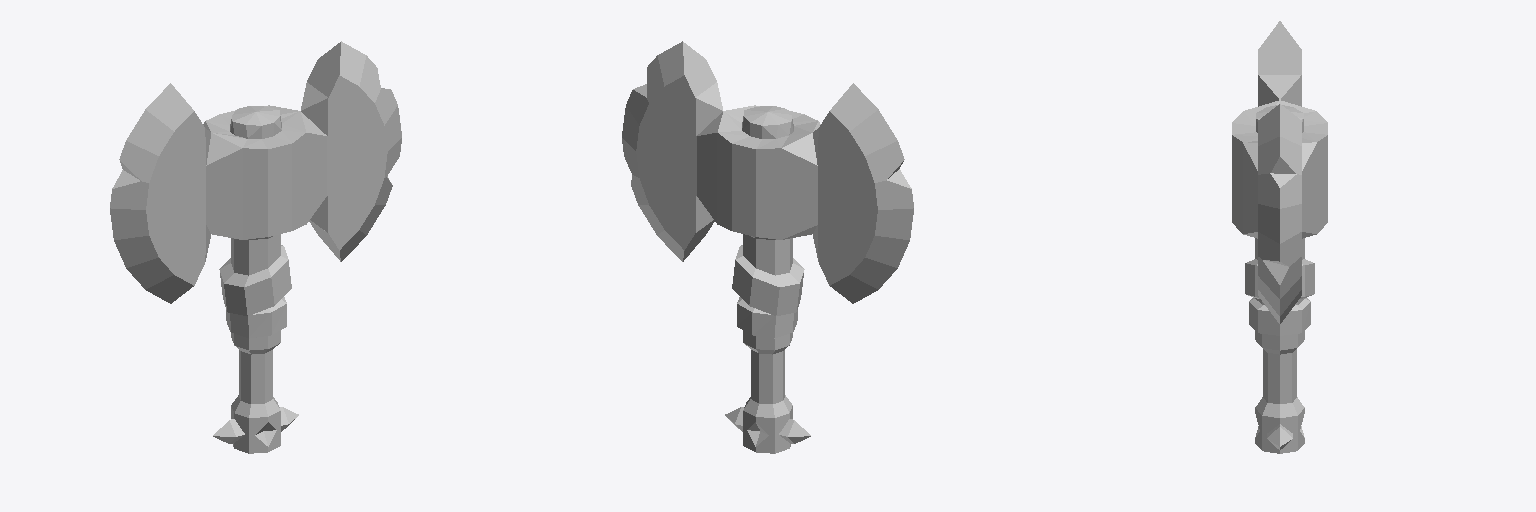
The model's file is Skeleton_Axe.obj.
3 renders of one model, left to right at view 1: azimuth 30°, elevation 25°; view 2: azimuth 150°, elevation 25°; view 3: azimuth 270°, elevation 25°, orthographic.
Visible parts, largest first — view 1: Skeleton_Axe_Cylinder.002; view 2: Skeleton_Axe_Cylinder.002; view 3: Skeleton_Axe_Cylinder.002.
Part boxes in pixels (x1,y1,x2,y2): Skeleton_Axe_Cylinder.002: (110,41,401,453); Skeleton_Axe_Cylinder.002: (622,41,913,453); Skeleton_Axe_Cylinder.002: (1232,21,1327,453).
Size of the model in its own units: 0.9886 by 1.25 by 0.2819.